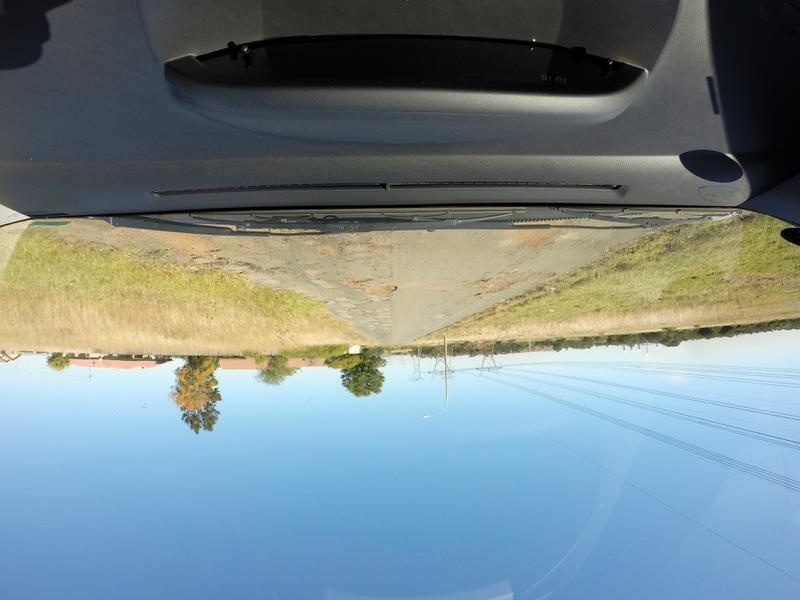pothole: (295, 238, 399, 264), (221, 260, 295, 292), (468, 268, 549, 290), (490, 231, 577, 248), (153, 235, 220, 252), (358, 280, 397, 297), (335, 271, 360, 288), (467, 292, 485, 302)
